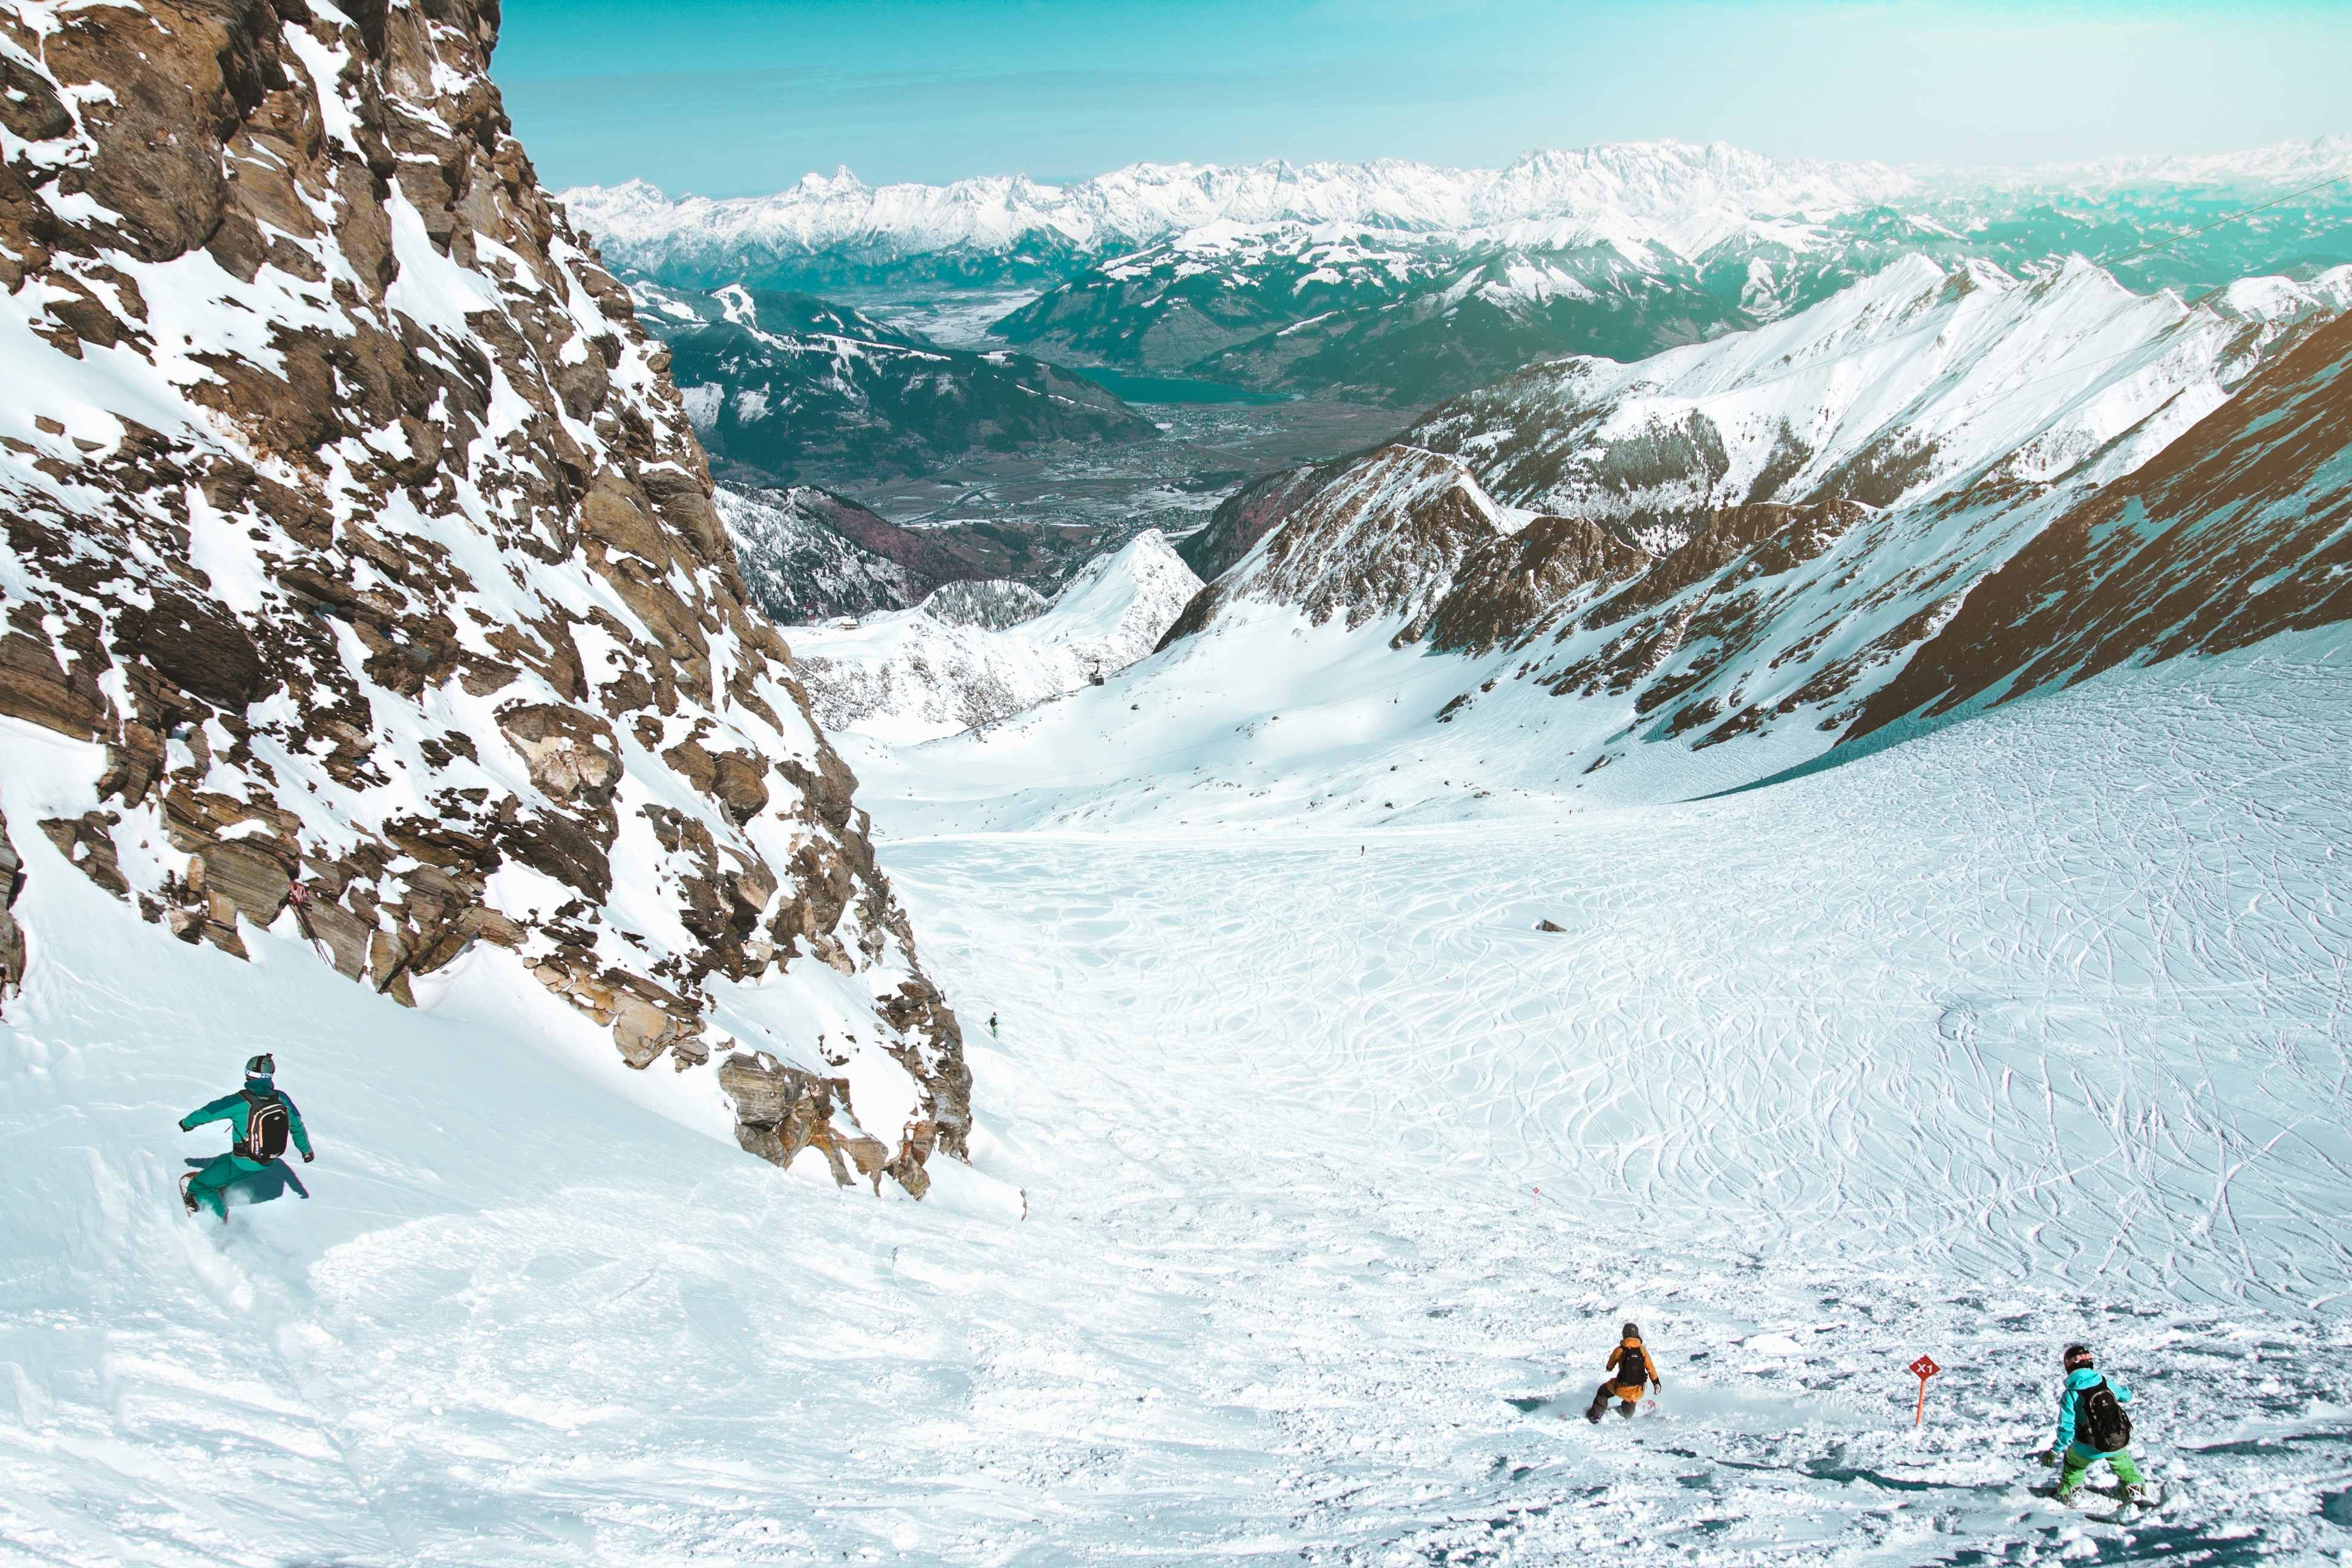snowboarder: (1997, 1328, 2198, 1519), (154, 1046, 322, 1232), (1566, 1319, 1696, 1442)
